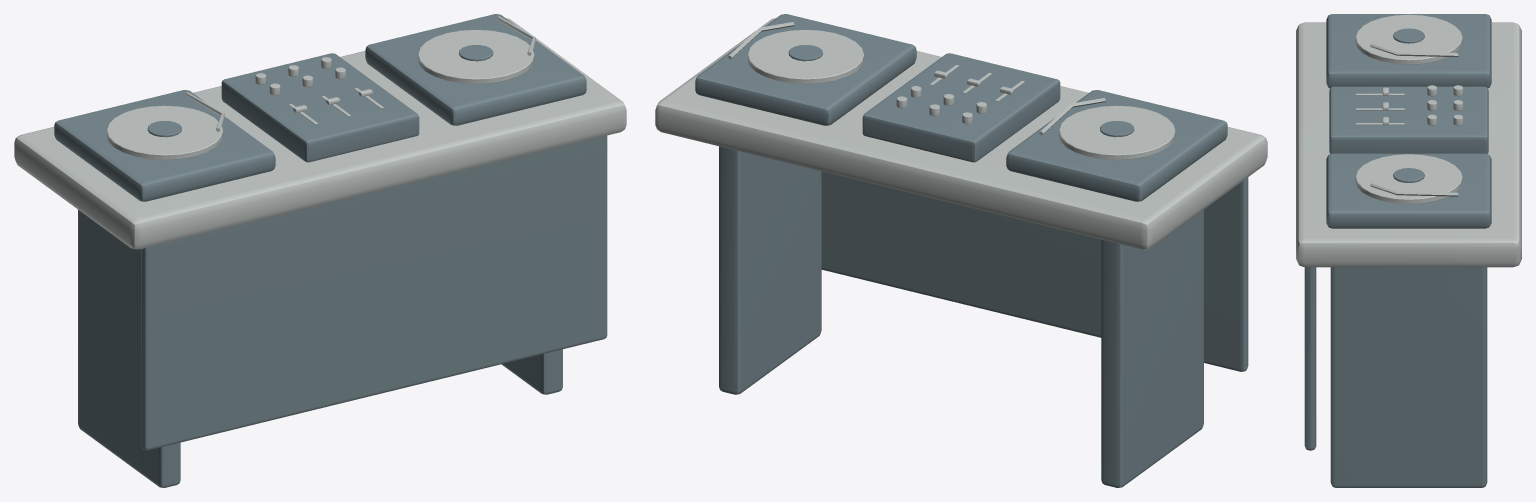
The model's file is dj-booth.glb.
3 views of the same model, side by side, from view 1: azimuth 30°, elevation 25°; view 2: azimuth 150°, elevation 25°; view 3: azimuth 270°, elevation 25° (orthographic). The views are drawn at different scales.
Parts seen in each view (by area): view 1: front_panel, desk, support, mixer, turntable, turntable.001, platter.001, platter, support.001; view 2: front_panel, desk, support, support.001, mixer, turntable, turntable.001, platter.001, platter; view 3: support.001, desk, mixer, turntable.001, turntable, platter.001, platter, front_panel, tonearm.001, tonearm, label, label.001.
Boxes of the visible parts, left/top/right/bottom form: front_panel: left=141, top=135, right=607, bottom=450; desk: left=14, top=18, right=626, bottom=249; support: left=78, top=210, right=180, bottom=487; mixer: left=221, top=53, right=419, bottom=162; turntable: left=54, top=90, right=275, bottom=201; turntable.001: left=365, top=14, right=586, bottom=125; platter.001: left=417, top=29, right=534, bottom=84; platter: left=106, top=105, right=223, bottom=160; support.001: left=502, top=349, right=562, bottom=394; front_panel: left=821, top=171, right=1248, bottom=371; desk: left=655, top=18, right=1267, bottom=249; support: left=1101, top=210, right=1203, bottom=487; support.001: left=719, top=146, right=821, bottom=394; mixer: left=862, top=53, right=1060, bottom=162; turntable: left=1006, top=90, right=1227, bottom=201; turntable.001: left=695, top=14, right=916, bottom=125; platter.001: left=747, top=29, right=864, bottom=84; platter: left=1058, top=105, right=1175, bottom=160; support.001: left=1330, top=267, right=1487, bottom=487; desk: left=1296, top=22, right=1521, bottom=267; mixer: left=1329, top=86, right=1488, bottom=153; turntable.001: left=1326, top=153, right=1491, bottom=228; turntable: left=1326, top=14, right=1491, bottom=88; platter.001: left=1355, top=154, right=1462, bottom=204; platter: left=1355, top=14, right=1462, bottom=64; front_panel: left=1304, top=267, right=1316, bottom=450; tonearm.001: left=1370, top=183, right=1458, bottom=196; tonearm: left=1370, top=43, right=1458, bottom=57; label: left=1393, top=28, right=1424, bottom=43; label.001: left=1393, top=168, right=1424, bottom=182.
Size of the model in its own units: 1.82 by 1.15 by 0.78.
